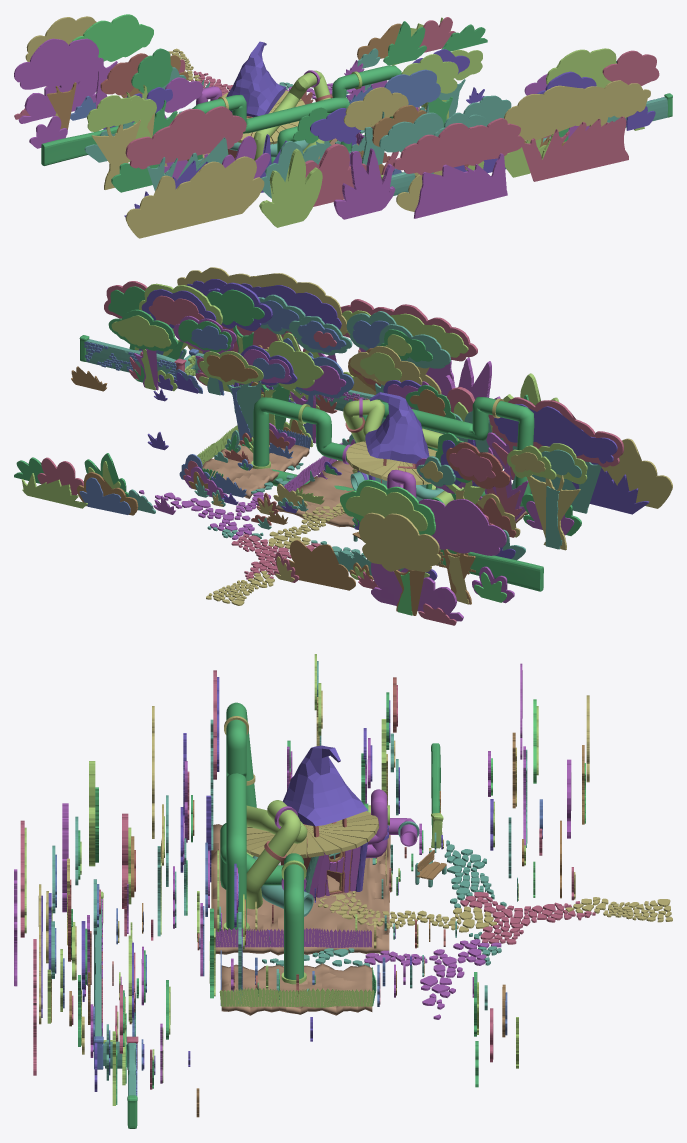
The model's file is section_two.fbx.
3 renders of one model, top to bottom at view 1: azimuth 30°, elevation 25°; view 2: azimuth 150°, elevation 25°; view 3: azimuth 270°, elevation 25°, orthographic. The views are drawn at different scales.
Visible parts, largest first — view 1: background.011, background.015, background.017, background.009, background.014, NurbsPath.007, background.013, tree.200, bush.088, bush.092, tree.195, Cube.059 (+47 smaller); view 2: NurbsPath.007, set.045, tree.199, tree.200, Cube.059, background.010, set.061, background.011, bush.113, background.015, bush.112, background.016 (+61 smaller); view 3: set.045, NurbsPath.007, set.061, Cube.059, NurbsPath.006, Cylinder.007, set.044, set.049, set.047, set.008, set.051, set.050 (+4 smaller).
Part boxes in pixels (x1,y1,x2,y2): background.011: (125,156,264,238); background.015: (504,80,650,141); background.017: (393,118,524,175); background.009: (125,106,246,169); background.014: (522,116,628,181); NurbsPath.007: (192,65,401,165); background.013: (414,153,507,218); tree.200: (14,38,103,89); bush.088: (259,148,322,227); bush.092: (333,148,395,219); tree.195: (72,14,153,61); Cube.059: (226,41,286,117); NurbsPath.007: (253,396,534,506); set.045: (202,440,528,527); tree.199: (359,512,440,571); tree.200: (419,499,506,555); Cube.059: (365,392,429,463); background.010: (494,404,617,463); set.061: (206,503,345,605); background.011: (601,438,672,508); bush.113: (284,540,355,590); background.015: (177,267,347,334); bush.112: (371,563,463,621); background.016: (186,279,341,329); set.045: (211,824,390,1015); NurbsPath.007: (220,702,303,979); set.061: (318,891,672,932); Cube.059: (282,745,368,826); NurbsPath.006: (246,800,389,909); Cylinder.007: (246,811,379,858); set.044: (219,988,374,1007); set.049: (364,939,501,1019); set.047: (460,892,595,944); set.008: (215,928,371,947); set.051: (94,899,136,1095); set.050: (444,840,506,908).
Size of the model in its own units: 4654 by 996 by 3499.
